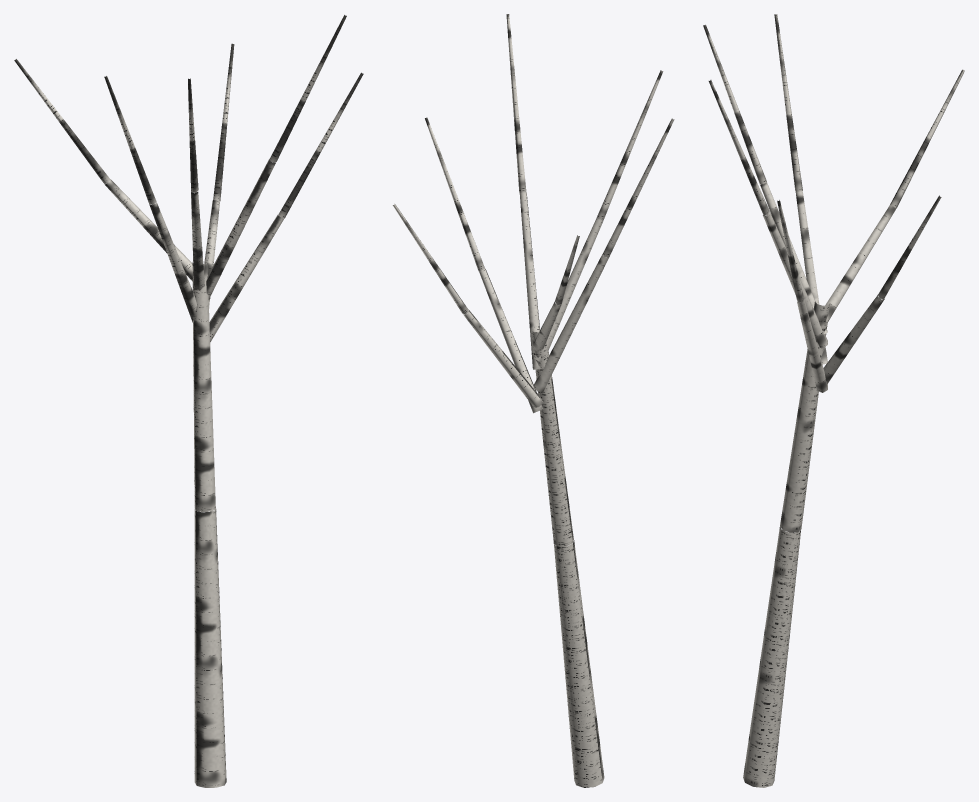
The model's file is SM_Art_Veg_Birch_2_BirchBark.gltf.
3 renders of one model, left to right at view 1: azimuth 30°, elevation 25°; view 2: azimuth 150°, elevation 25°; view 3: azimuth 270°, elevation 25°, orthographic. The views are drawn at different scales.
Parts seen in each view (by area): view 1: SM_Art_Veg_Birch_2_BirchBark; view 2: SM_Art_Veg_Birch_2_BirchBark; view 3: SM_Art_Veg_Birch_2_BirchBark.
Part boxes in pixels (box(x1,y1,x2,y2)): SM_Art_Veg_Birch_2_BirchBark: box(14, 15, 363, 787); SM_Art_Veg_Birch_2_BirchBark: box(392, 14, 674, 787); SM_Art_Veg_Birch_2_BirchBark: box(703, 14, 964, 787).
Size of the model in its own units: 2.99 by 8.35 by 2.62.
1 material, 1 textured.
